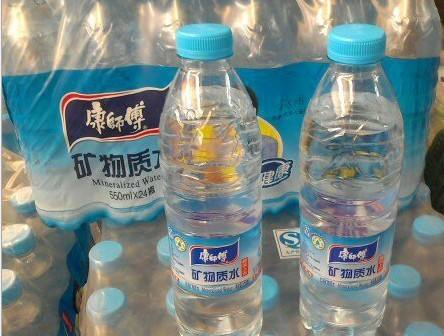amwater: (286, 17, 407, 330), (156, 28, 274, 336)
